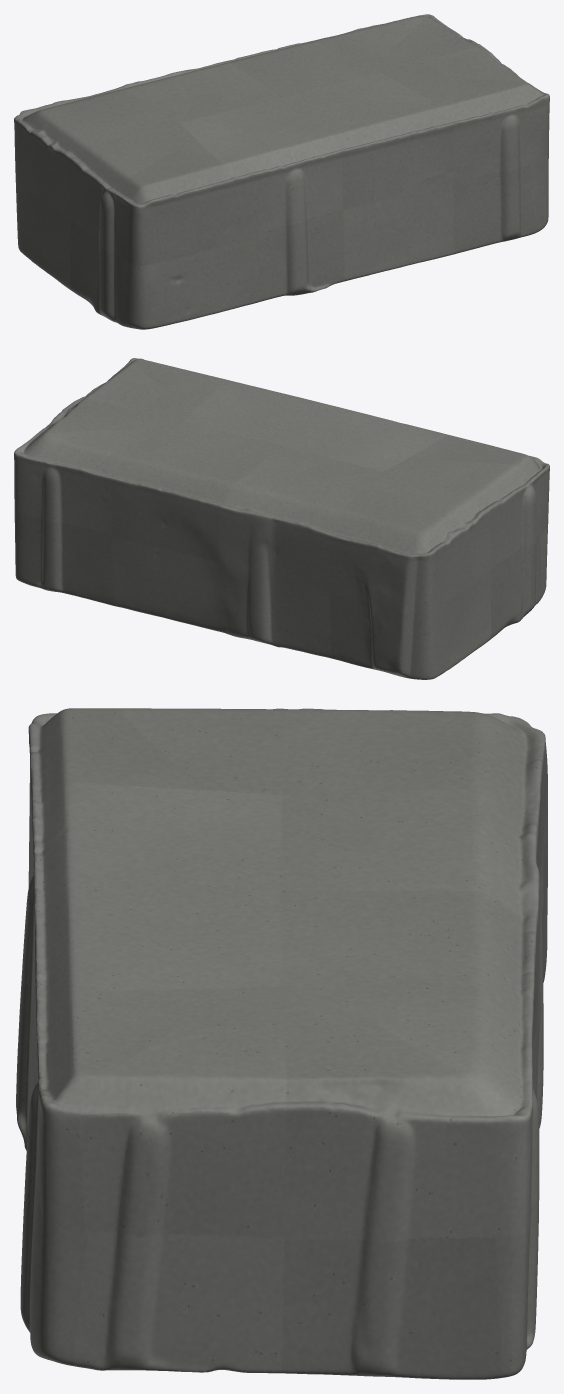
File: concrete-block-natural.glb
3 views of the same model, one above another, from view 1: azimuth 30°, elevation 25°; view 2: azimuth 150°, elevation 25°; view 3: azimuth 270°, elevation 25° (orthographic). The views are drawn at different scales.
Parts seen in each view (by area): view 1: tripo_node_cb9a4334-af0f-49bc-a477-f5d111944966; view 2: tripo_node_cb9a4334-af0f-49bc-a477-f5d111944966; view 3: tripo_node_cb9a4334-af0f-49bc-a477-f5d111944966.
Part boxes in pixels (x1=…): tripo_node_cb9a4334-af0f-49bc-a477-f5d111944966: x1=14, y1=14, x2=549, y2=329; tripo_node_cb9a4334-af0f-49bc-a477-f5d111944966: x1=14, y1=358, x2=549, y2=679; tripo_node_cb9a4334-af0f-49bc-a477-f5d111944966: x1=16, y1=708, x2=547, y2=1379.
Size of the model in its own units: 1 by 0.3298 by 0.5389.
Materials: 2 (2 with a texture image).
